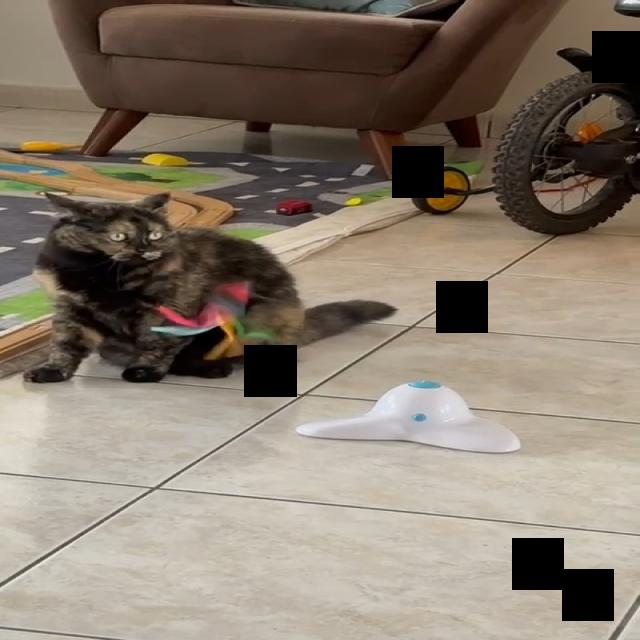authorized: (23, 191, 397, 383)
